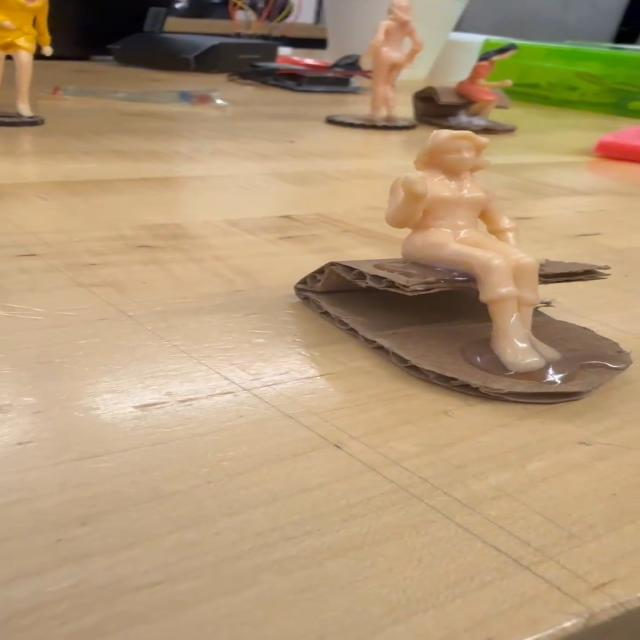Unauthorized: (386, 123, 588, 380)
